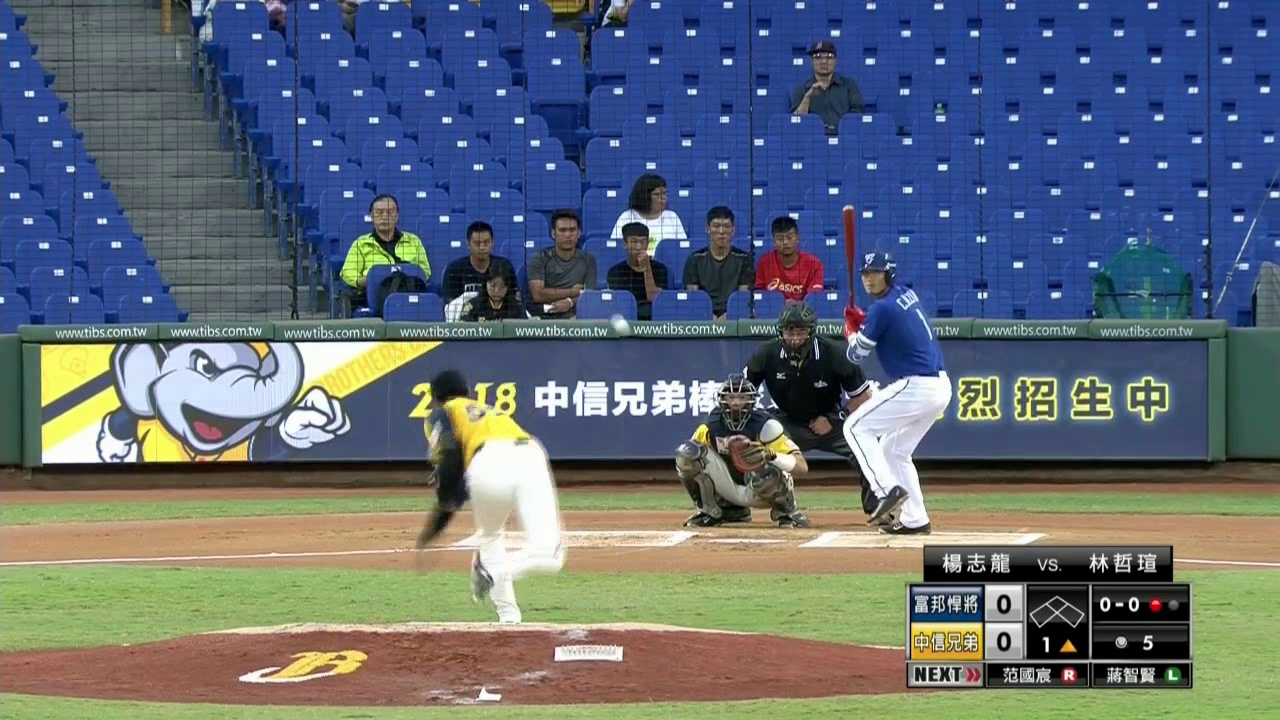ball: (609, 313, 632, 335)
base: (1029, 593, 1087, 629)
bat: (838, 201, 862, 309)
out: (1146, 595, 1181, 614)
score1: (985, 585, 1022, 621)
score2: (985, 622, 1022, 659)
session: (1034, 634, 1081, 655)
strikeball: (1095, 593, 1142, 614)
total: (1107, 630, 1160, 653)
